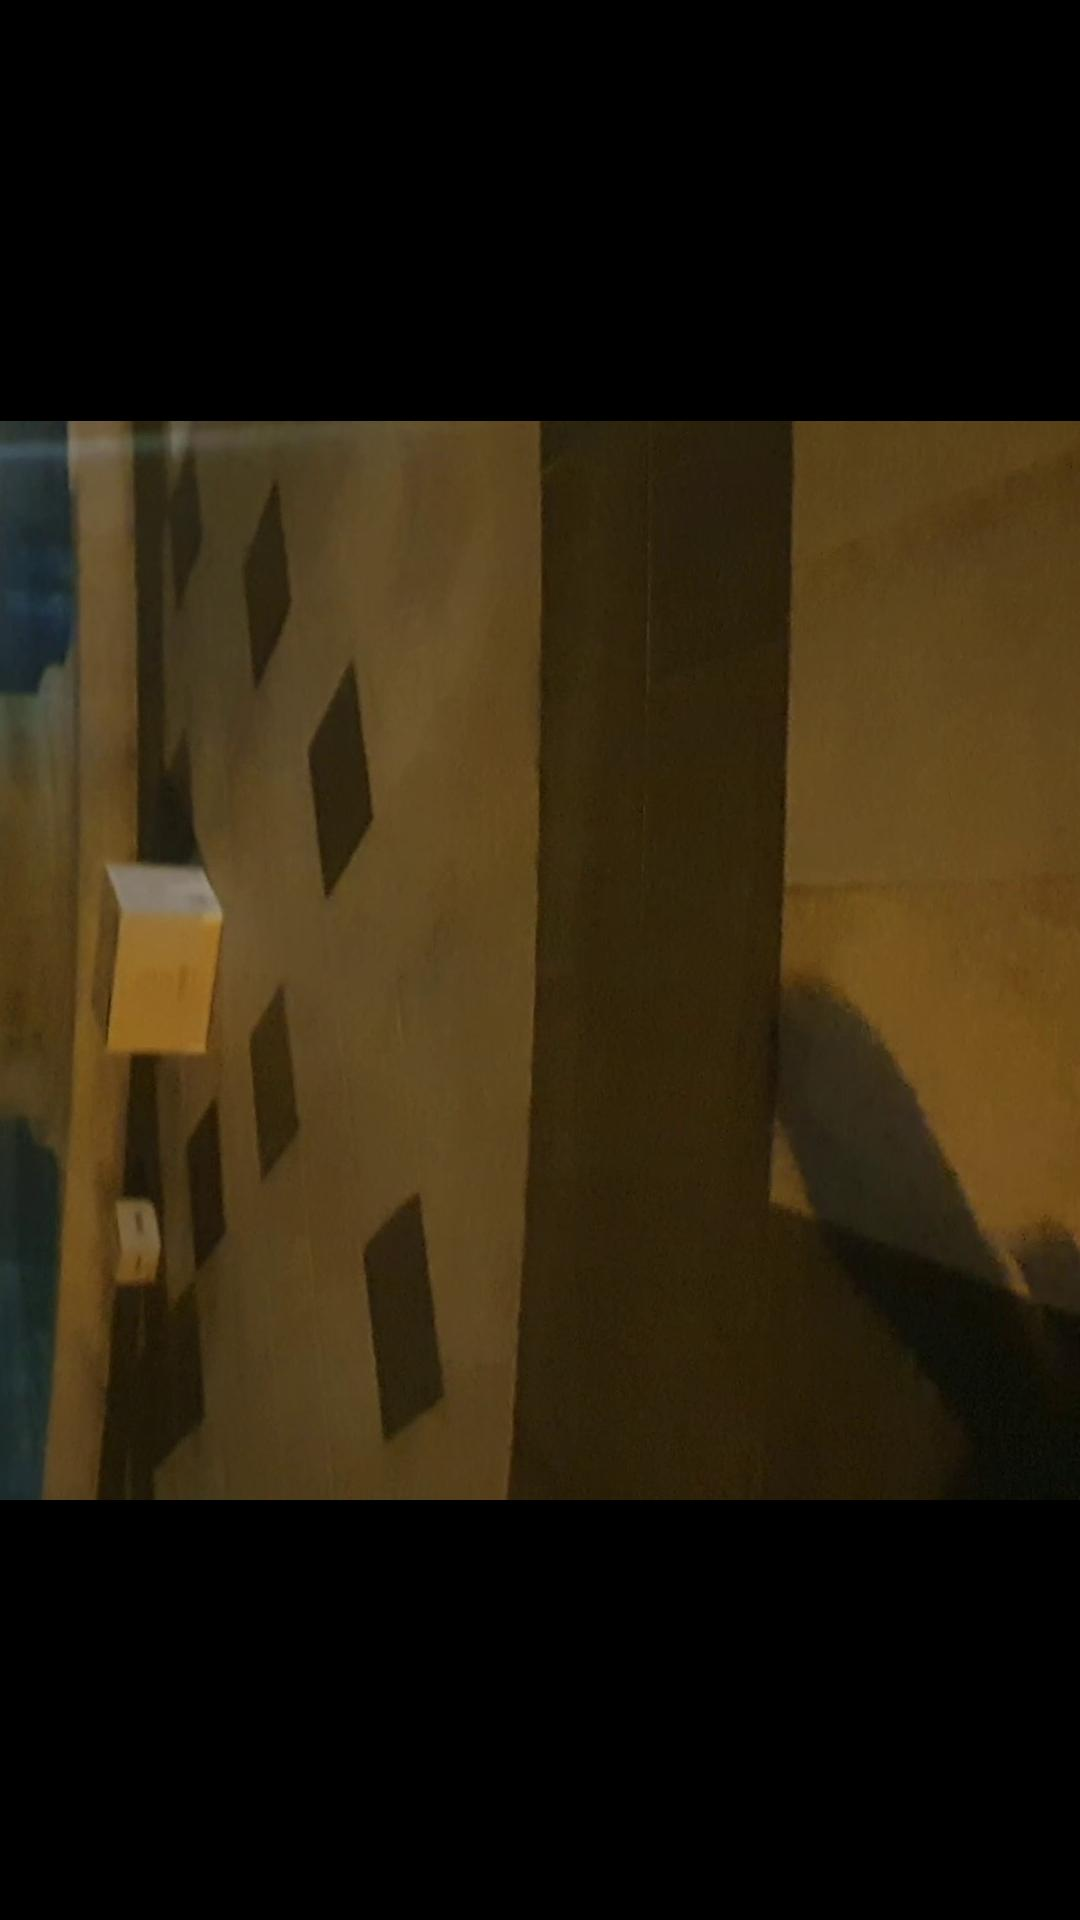Box: (90, 855, 227, 1054), (103, 1189, 164, 1284)
